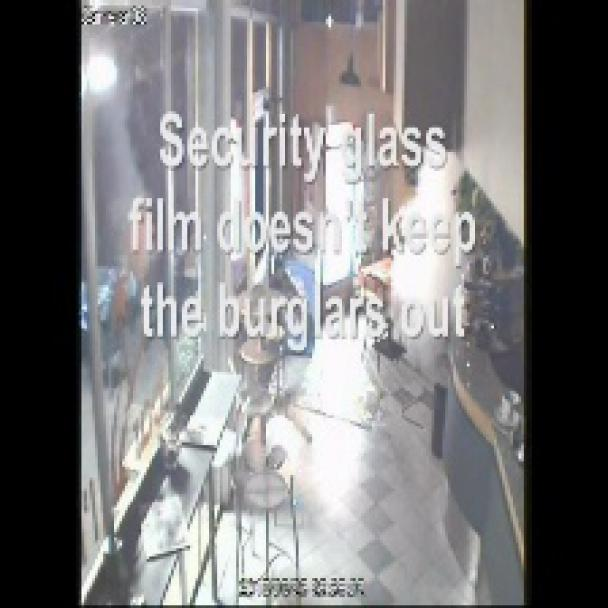smoke: (380, 125, 480, 351)
